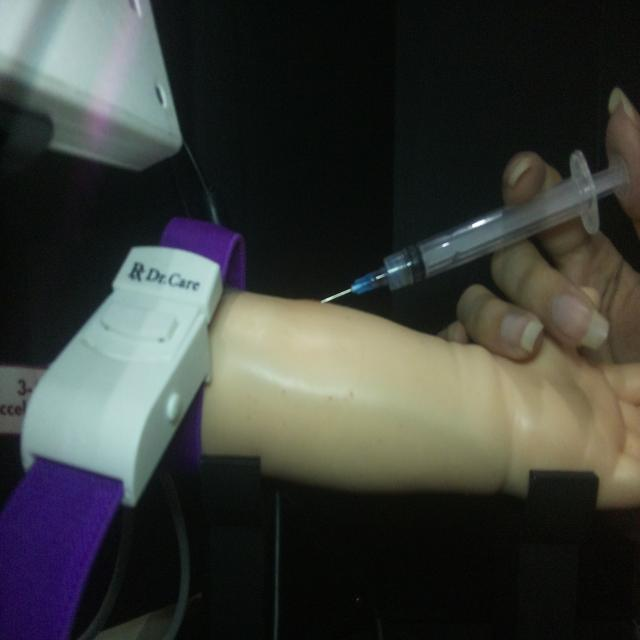15 degrees: (319, 147, 630, 307)
